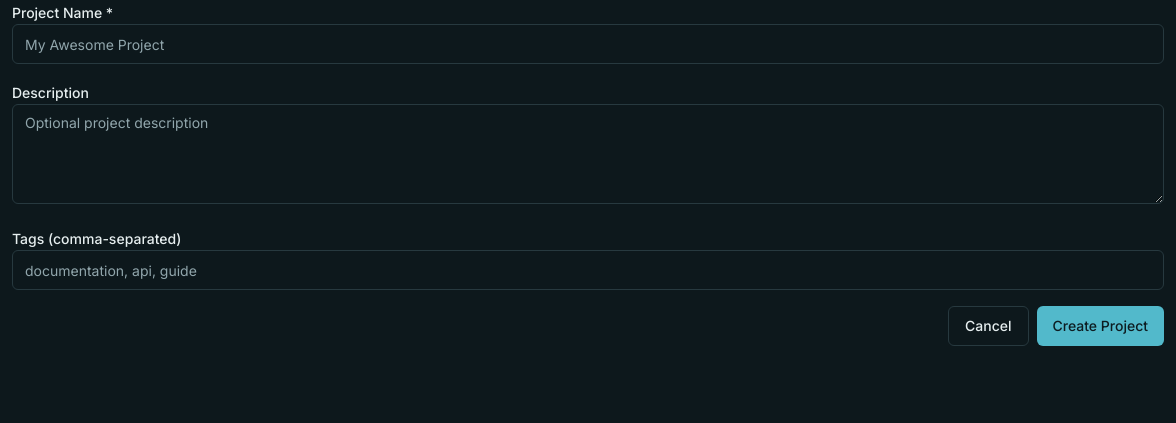
Test: ProjectForm › displays the error message when the API rejects with an Error
The width and height of the screenshot is (1176, 423).
Type "Boom" into the field labelled "Project Name *" at (588, 44), box [12, 24, 1164, 64]
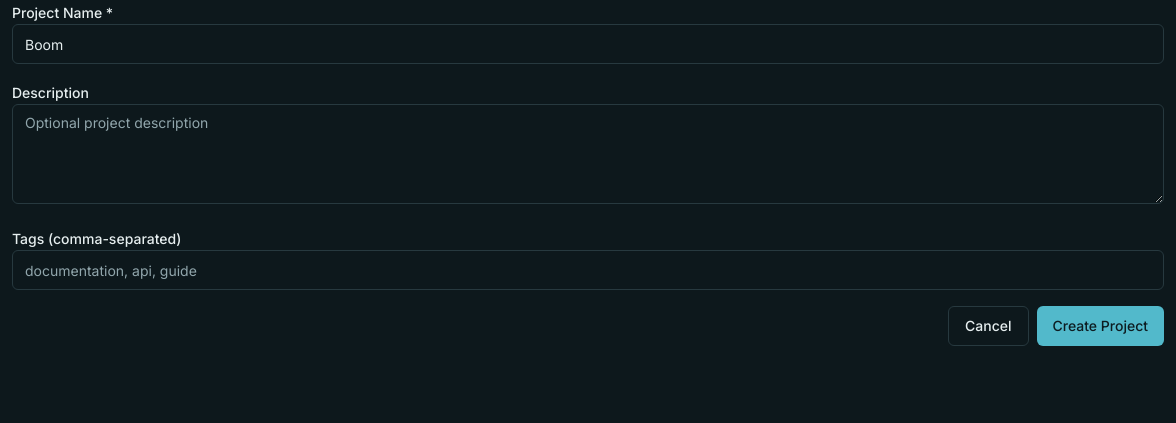
Click the button "Create Project" at (1100, 326), box [1036, 306, 1164, 346]
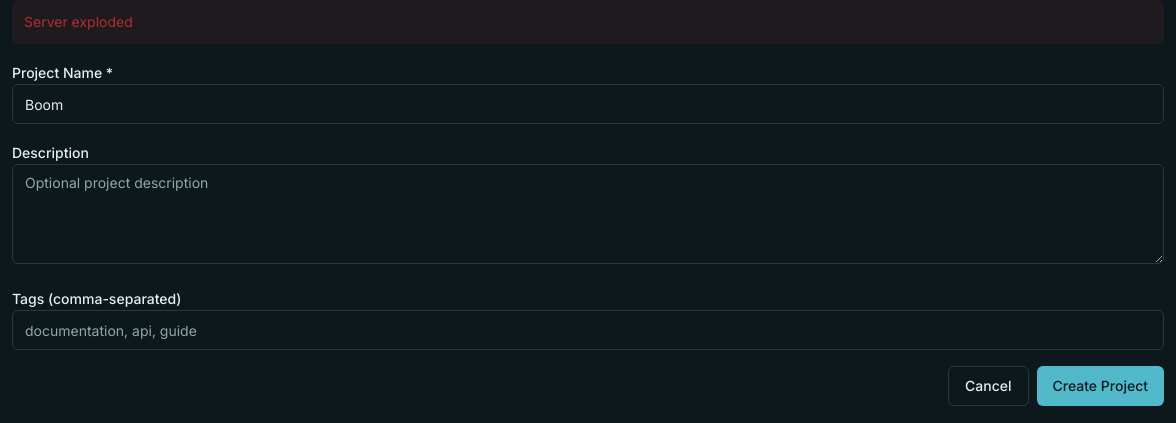
Expected: the text "Server exploded" is shown, [12, 0, 1164, 44]
